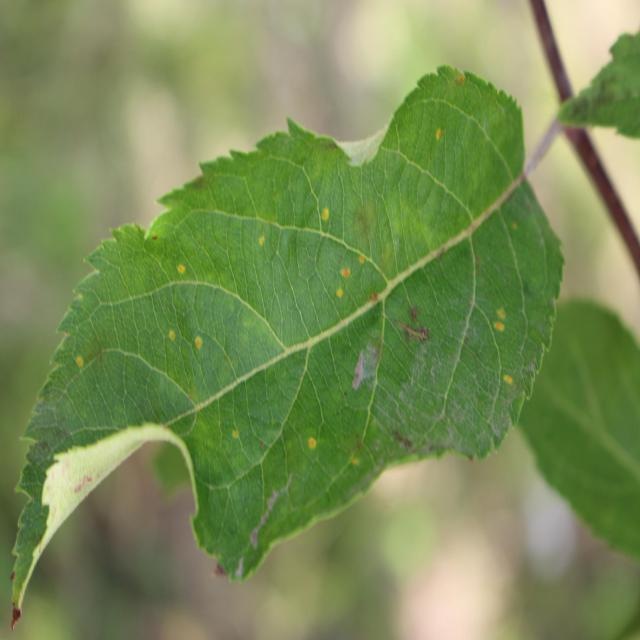Rust: (485, 294, 509, 340), (452, 52, 480, 91), (493, 367, 523, 399), (301, 428, 326, 459), (189, 329, 212, 362), (348, 445, 364, 482), (228, 421, 245, 454), (432, 116, 447, 152), (71, 344, 83, 383), (174, 251, 188, 280), (334, 258, 352, 280), (332, 277, 344, 309), (164, 315, 178, 342), (255, 225, 271, 248), (321, 195, 331, 231), (352, 251, 372, 267)
